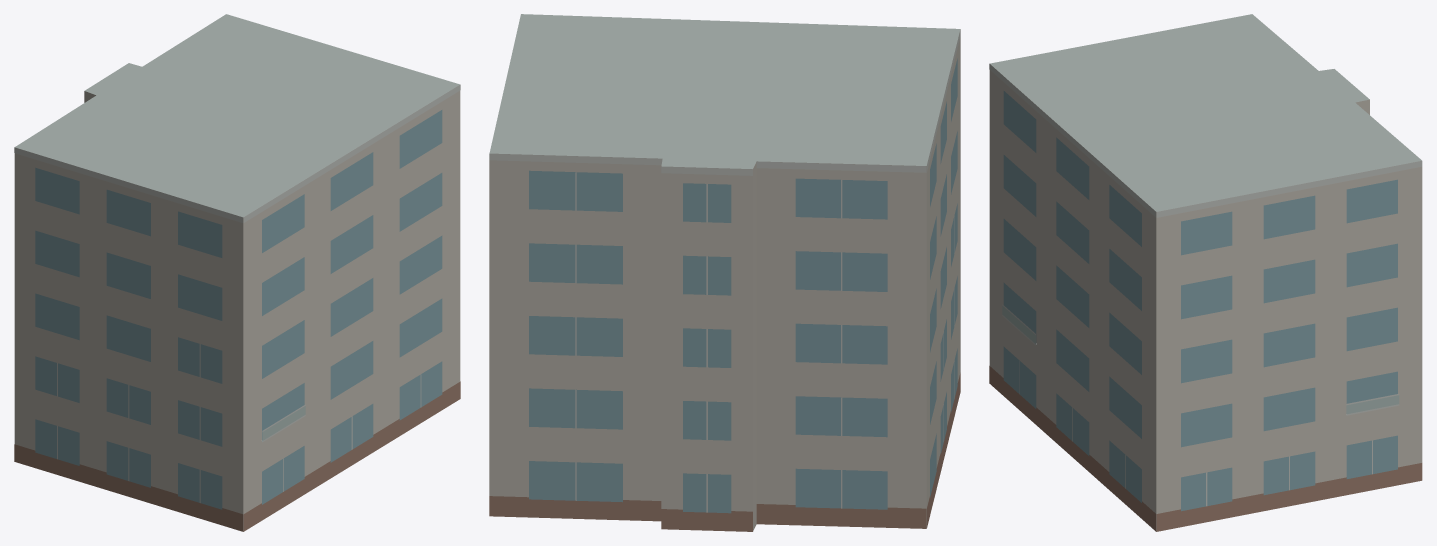
Rendered from survey-upis-32732576.glb.
The picture shows the model from 3 angles, left to right: view 1: azimuth 30°, elevation 25°; view 2: azimuth 150°, elevation 25°; view 3: azimuth 270°, elevation 25°; orthographic projection. The views are drawn at different scales.
Visible parts, largest first — view 1: survey-upis-32732576.tmp; view 2: survey-upis-32732576.tmp; view 3: survey-upis-32732576.tmp.
Boxes of the visible parts, box(x1,y1,x2,y2) form: survey-upis-32732576.tmp: box(14, 14, 460, 531); survey-upis-32732576.tmp: box(489, 14, 960, 531); survey-upis-32732576.tmp: box(989, 14, 1422, 531).
Bounding box in the file's own units: 17.4 × 13.1 × 16.07.
